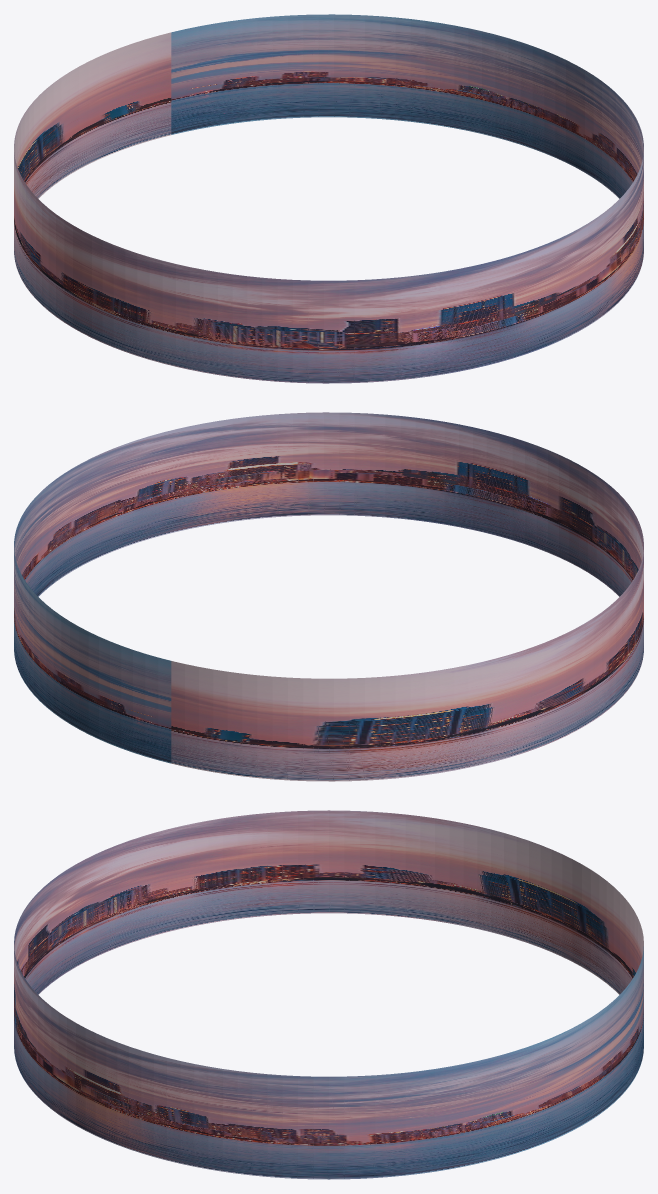
Rendered from cylinder_origin_at_center_of_bottom.obj.
3 views of the same model, one above another, from view 1: azimuth 30°, elevation 25°; view 2: azimuth 150°, elevation 25°; view 3: azimuth 270°, elevation 25° (orthographic).
Visible parts, largest first — view 1: Ranged_Cylinder_Cylinder_Ranged_Cylinder_Cylinder.001; view 2: Ranged_Cylinder_Cylinder_Ranged_Cylinder_Cylinder.001; view 3: Ranged_Cylinder_Cylinder_Ranged_Cylinder_Cylinder.001.
Boxes of the visible parts, x1,y1,x2,y2 form: Ranged_Cylinder_Cylinder_Ranged_Cylinder_Cylinder.001: (14,14,643,383); Ranged_Cylinder_Cylinder_Ranged_Cylinder_Cylinder.001: (14,412,643,781); Ranged_Cylinder_Cylinder_Ranged_Cylinder_Cylinder.001: (14,810,643,1179).
Bounding box in the file's own units: 3 × 0.54 × 3.
